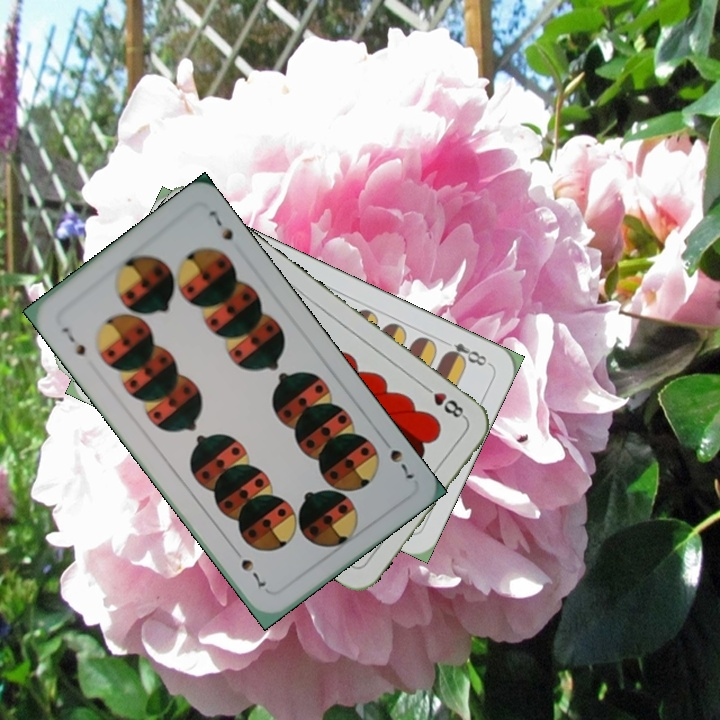E8: (438, 335, 492, 369)
H8: (418, 381, 469, 422)
S7: (385, 445, 418, 482), (58, 323, 89, 358)
